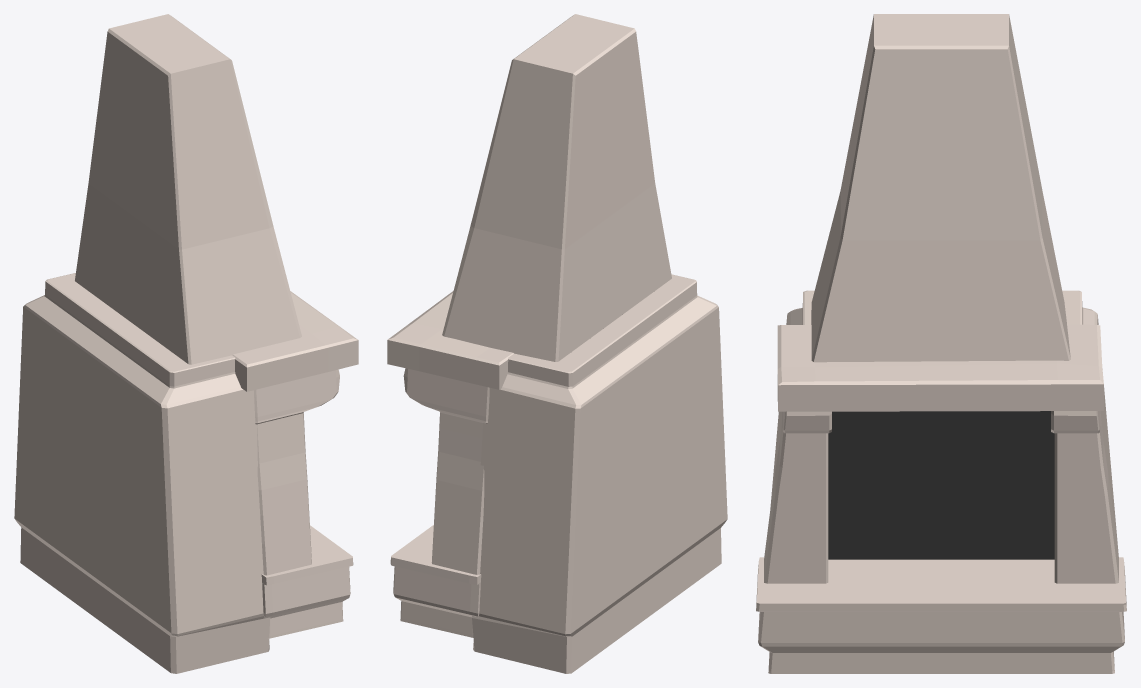
The model's file is Fireplace_1.fbx.
3 renders of one model, left to right at view 1: azimuth 30°, elevation 25°; view 2: azimuth 150°, elevation 25°; view 3: azimuth 270°, elevation 25°, orthographic. The views are drawn at different scales.
Visible parts, largest first — view 1: Fireplace_1; view 2: Fireplace_1; view 3: Fireplace_1.
Boxes of the visible parts, bbox=[...] form: Fireplace_1: bbox=[14, 14, 358, 673]; Fireplace_1: bbox=[387, 14, 727, 673]; Fireplace_1: bbox=[756, 14, 1126, 673].
Bounding box in the file's own units: 143 × 221 × 400.
